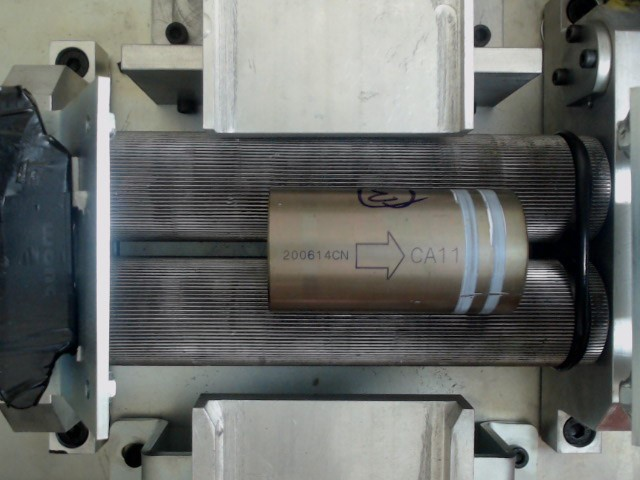arrow: (352, 228, 406, 284)
double_ringmark: (445, 191, 507, 315)
lotmark: (281, 246, 351, 263)
model_no: (411, 242, 461, 270)
